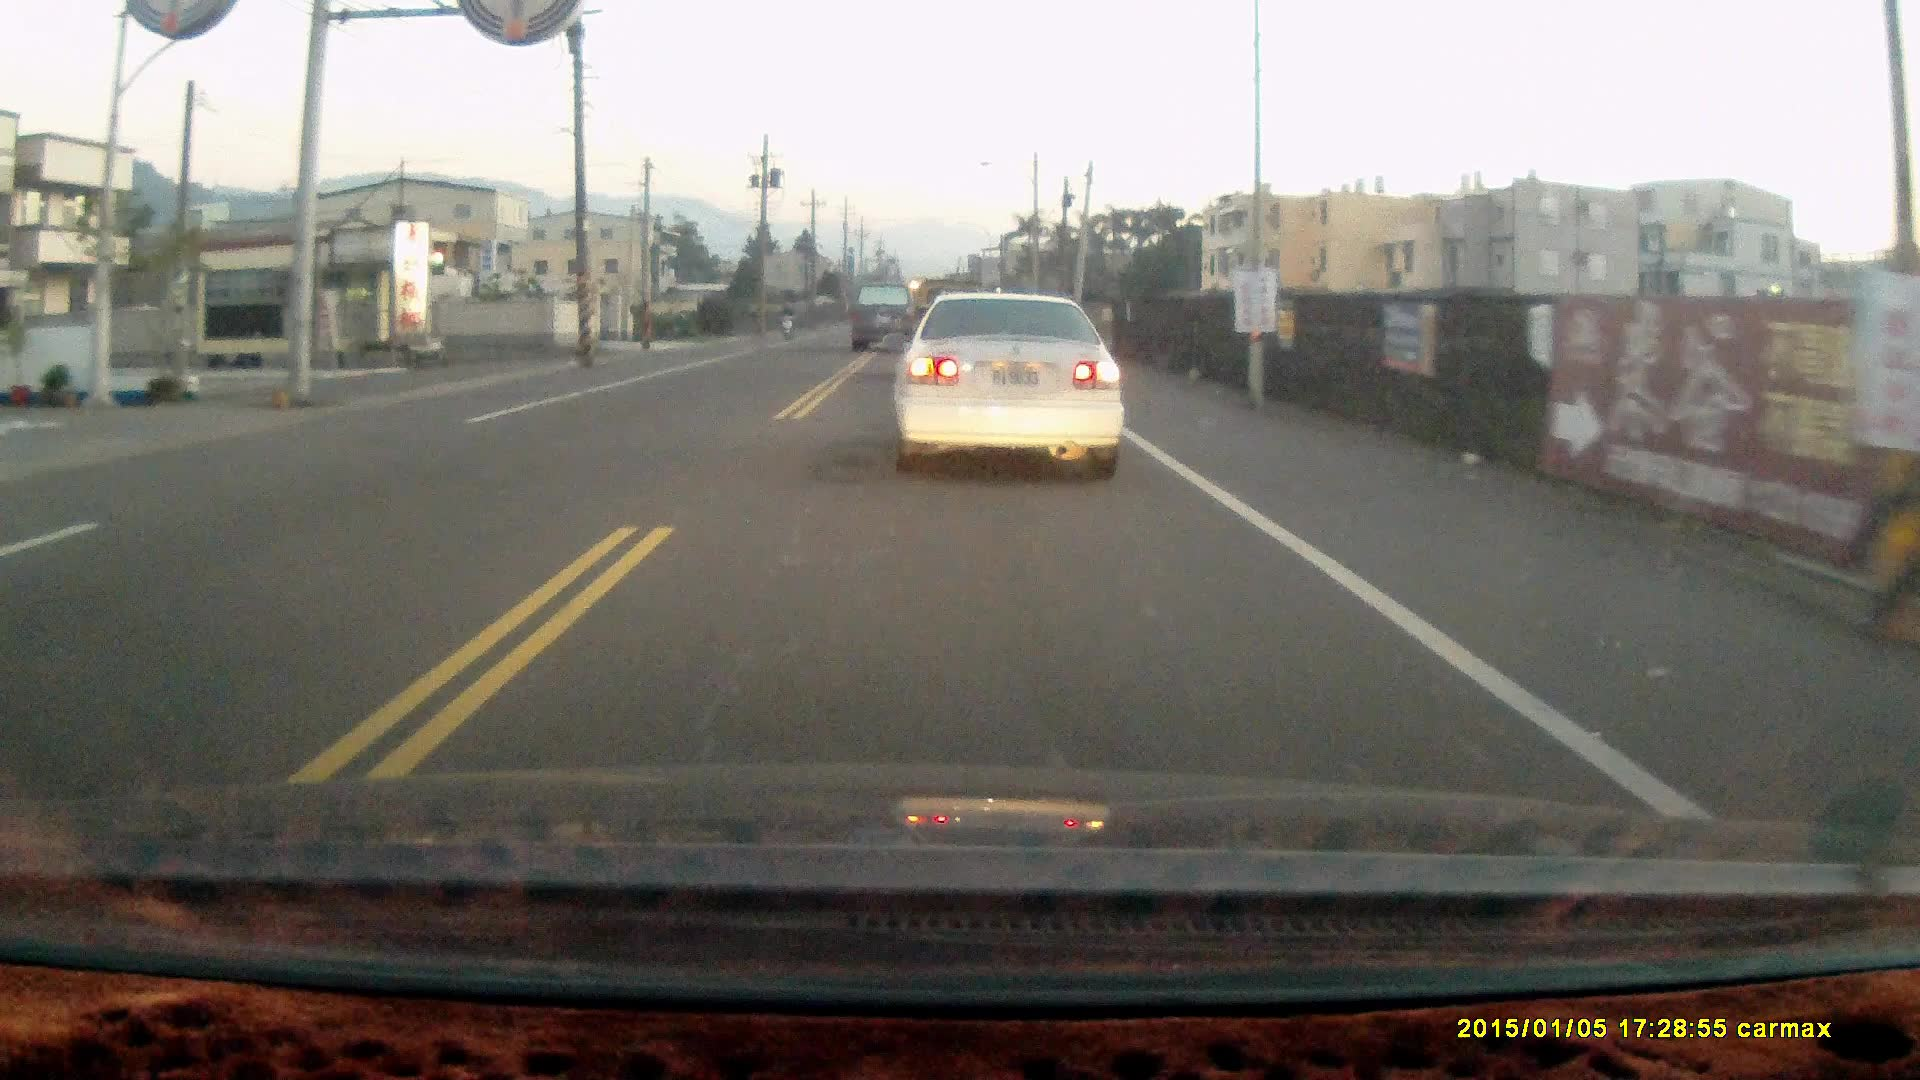rider: (777, 300, 798, 342)
vehicle: (888, 292, 1132, 484), (848, 279, 923, 355)
